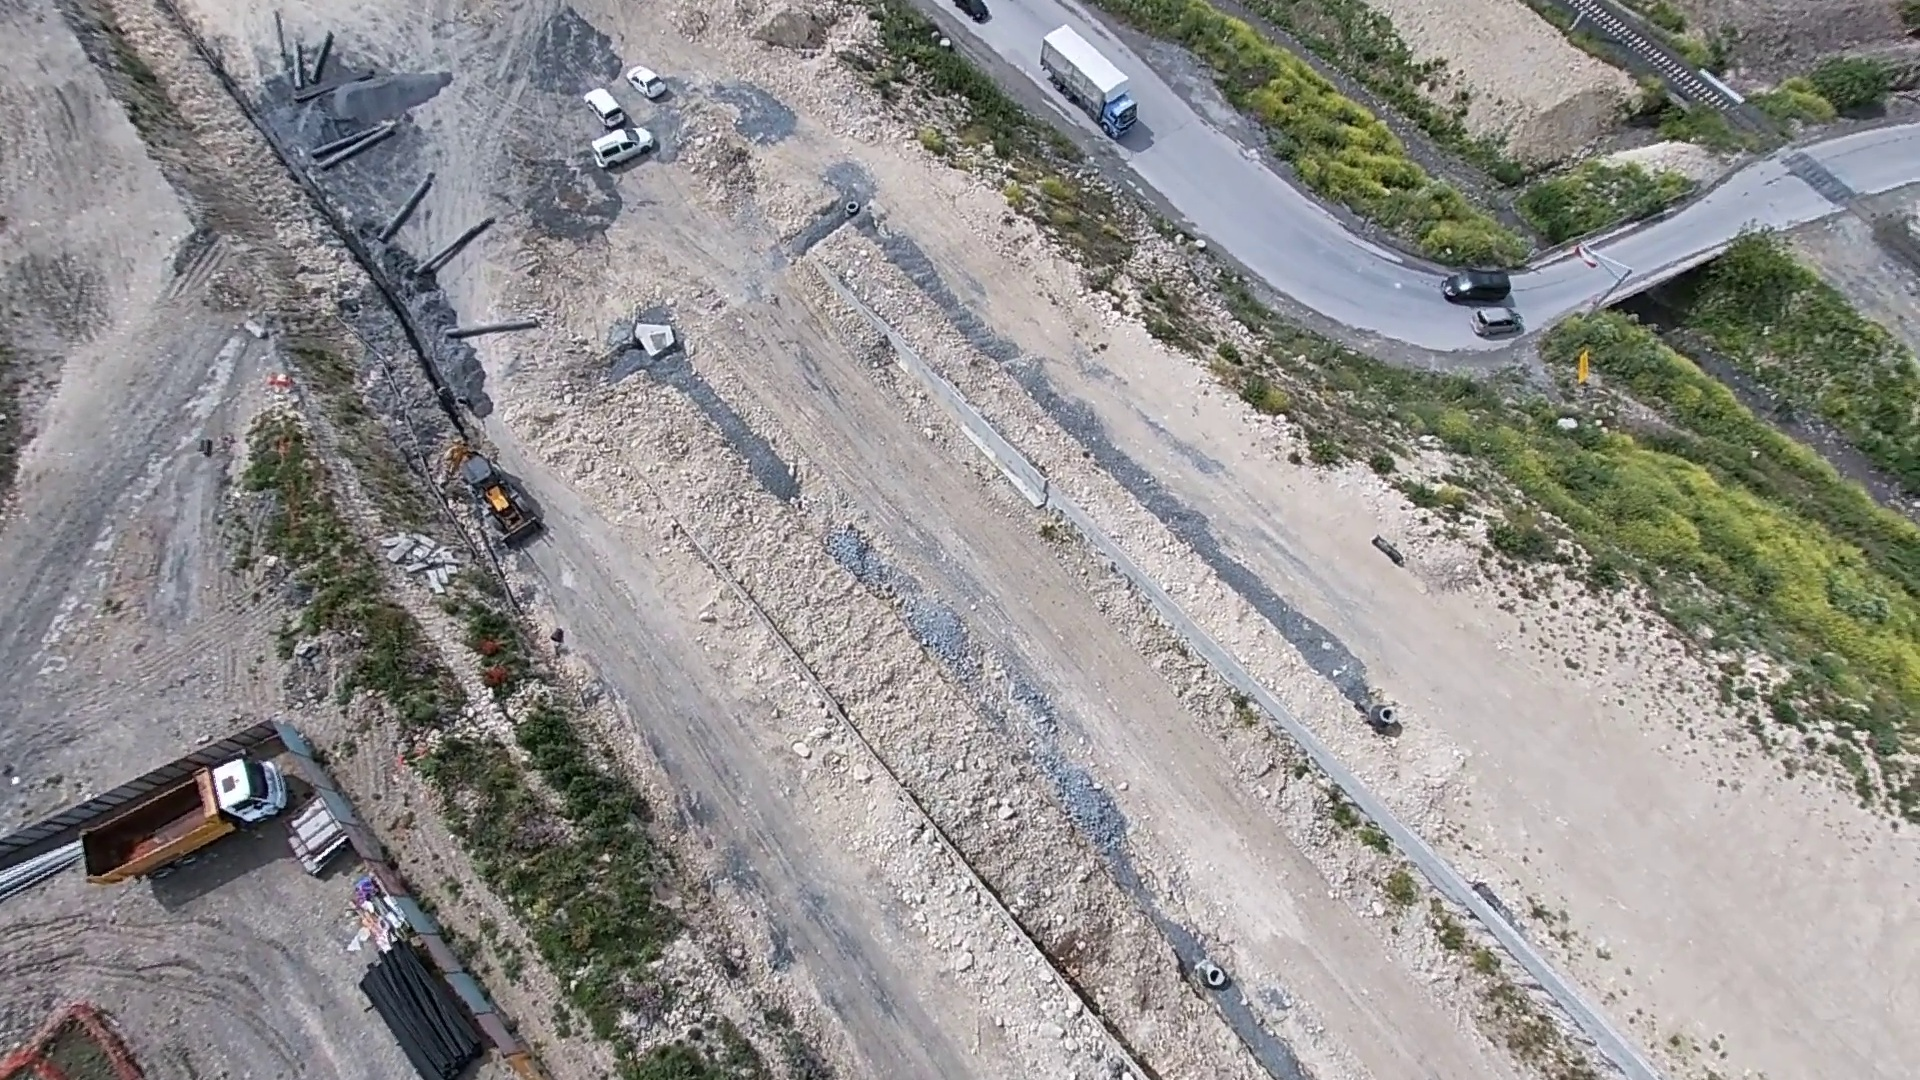arac: (69, 753, 290, 895), (429, 425, 555, 550), (1033, 17, 1150, 138), (1437, 264, 1519, 306), (589, 121, 653, 167), (578, 79, 626, 135), (1466, 303, 1532, 342), (624, 59, 670, 103)
